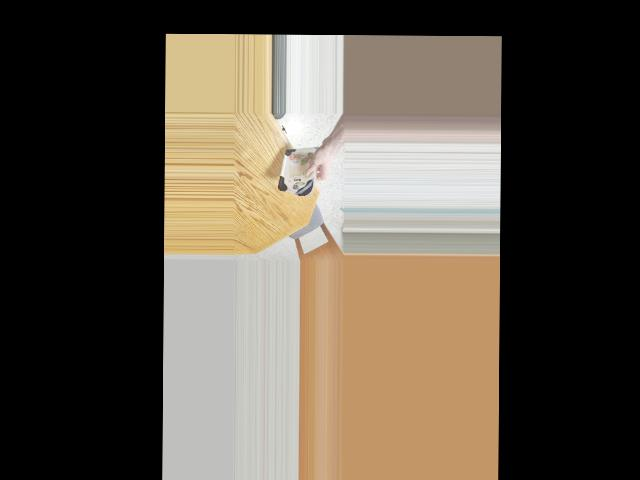cheese: (281, 140, 317, 198)
